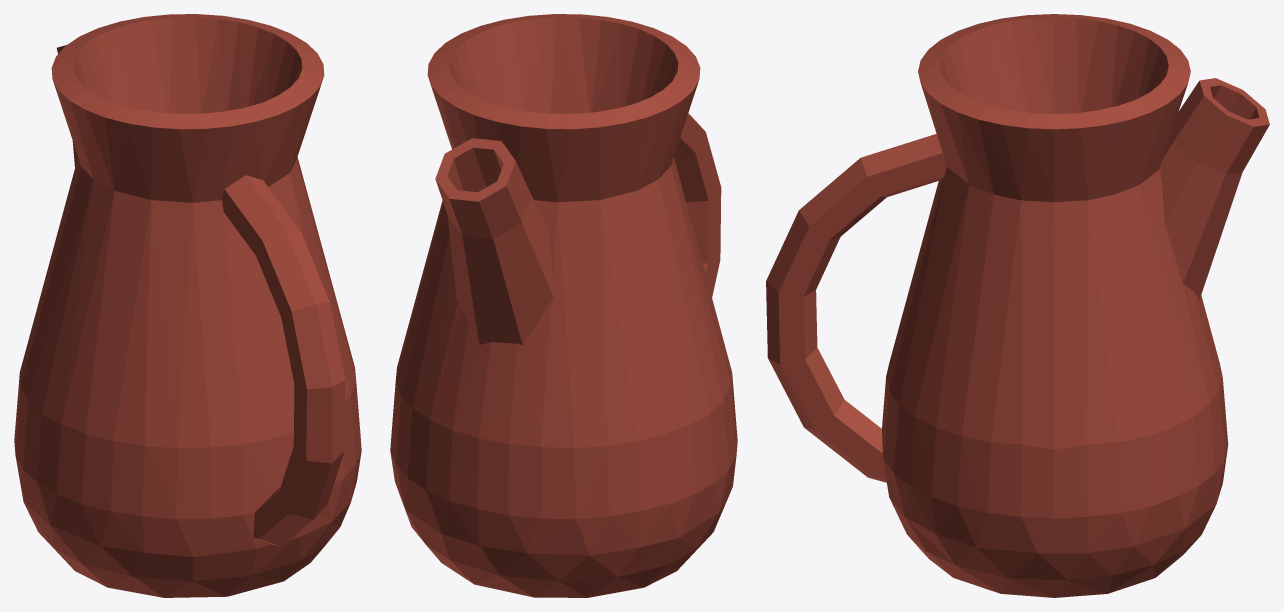
File: Pottery 8_3.fbx
3 renders of one model, left to right at view 1: azimuth 30°, elevation 25°; view 2: azimuth 150°, elevation 25°; view 3: azimuth 270°, elevation 25°, orthographic.
Parts seen in each view (by area): view 1: Pottery 8_3; view 2: Pottery 8_3; view 3: Pottery 8_3.
Part boxes in pixels (x1,y1,x2,y2): Pottery 8_3: (14,14,361,597); Pottery 8_3: (390,14,737,597); Pottery 8_3: (766,14,1269,597).
Size of the model in its own units: 30.34 by 45.97 by 43.99.
